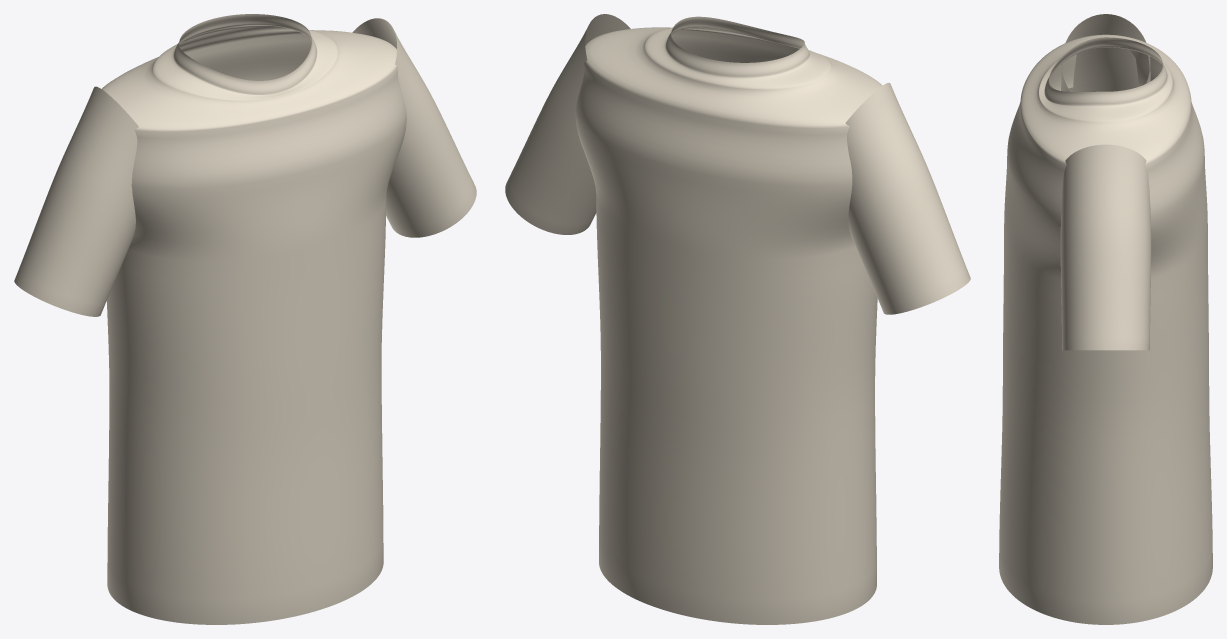
The model's file is demo-relaxed-tee--ecru--s.r2.glb.
3 renders of one model, left to right at view 1: azimuth 30°, elevation 25°; view 2: azimuth 150°, elevation 25°; view 3: azimuth 270°, elevation 25°, orthographic. The views are drawn at different scales.
Visible parts, largest first — view 1: demo-relaxed-tee--ecru--s; view 2: demo-relaxed-tee--ecru--s; view 3: demo-relaxed-tee--ecru--s.
Boxes of the visible parts, <box> form: demo-relaxed-tee--ecru--s: <box>14,14,476,624</box>; demo-relaxed-tee--ecru--s: <box>505,14,970,624</box>; demo-relaxed-tee--ecru--s: <box>999,14,1212,624</box>.
Bounding box in the file's own units: 0.6223 × 0.706 × 0.2723.
